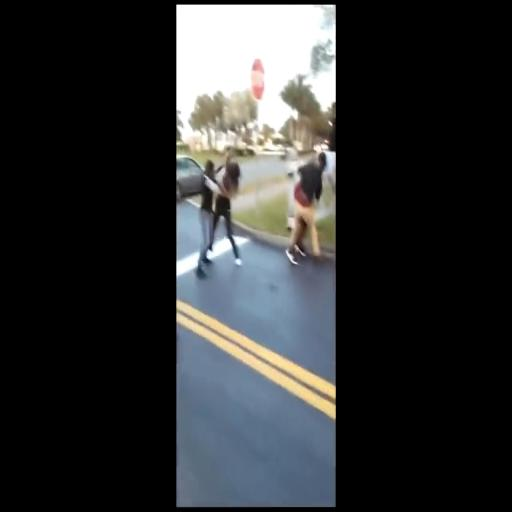violencia: (189, 142, 245, 288), (280, 135, 328, 279)
